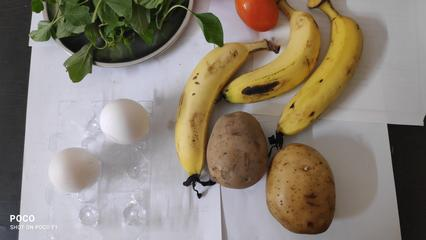banana: (244, 19, 371, 124), (172, 36, 232, 185)
eggs: (52, 99, 147, 205)
potato: (254, 142, 344, 240), (209, 102, 266, 193)
spinach: (54, 6, 154, 44)
tomato: (233, 1, 280, 28)
